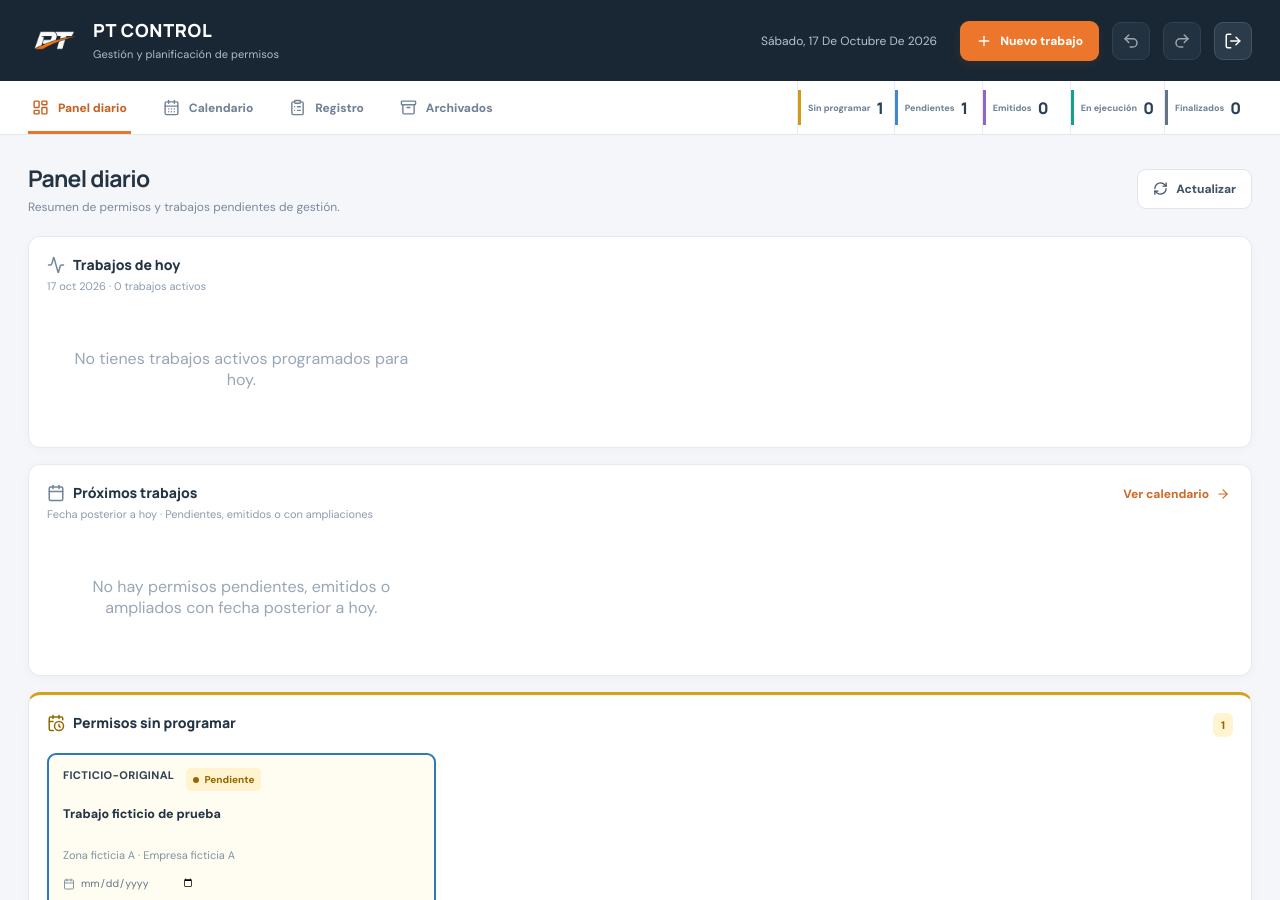
flujos completos con backend simulado solo en pruebas › finalizar desde la ficha también archiva
The width and height of the screenshot is (1280, 900).
Expected: the heading "Panel diario" is shown, x1=28 y1=162 x2=150 y2=194
Click the button with aria-label "Abrir Trabajo ficticio de prueba" at {"x": 119, "y": 775}, box x1=63 y1=768 x2=420 y2=864
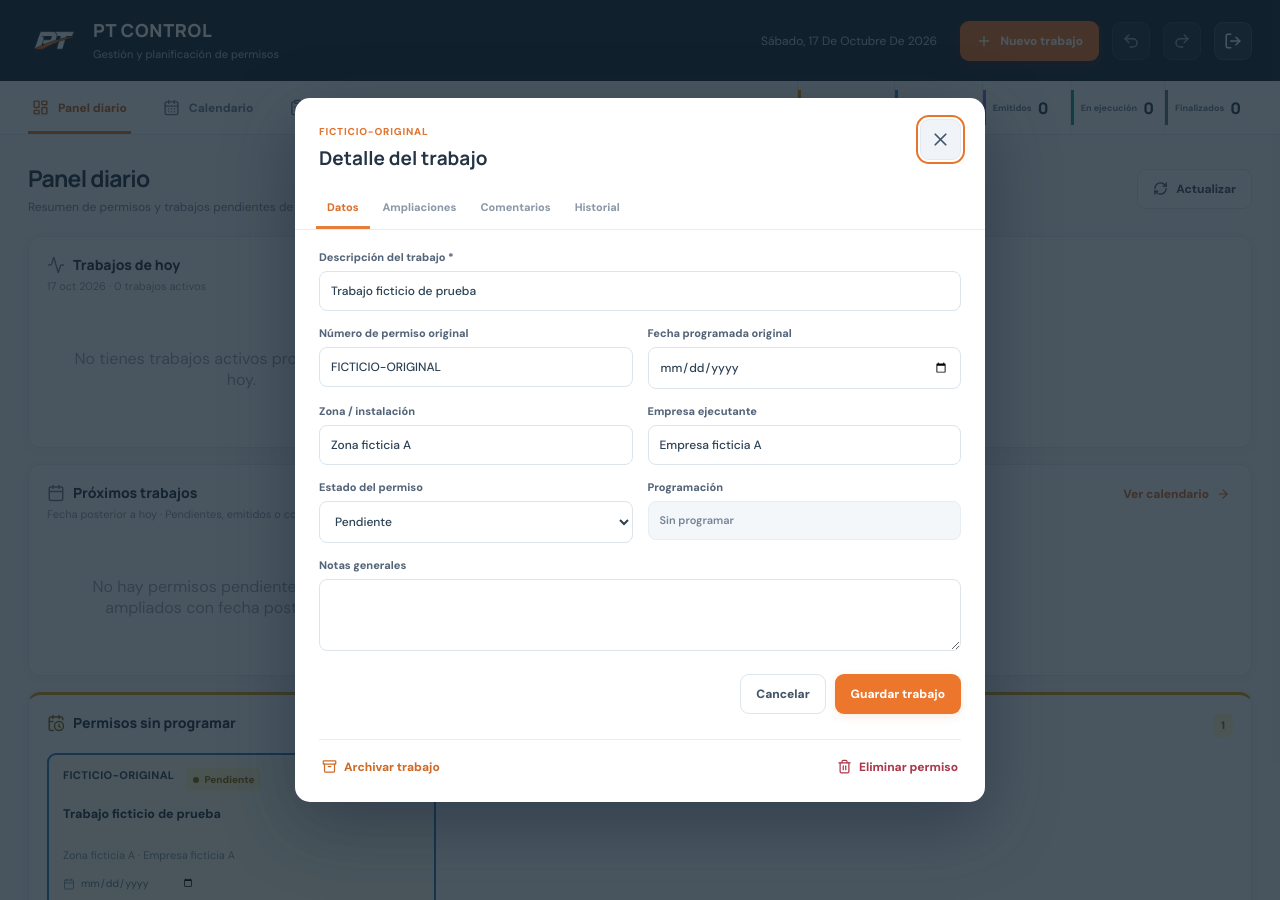
Select "Finalizado" in the dropdown labelled "Estado del permiso" at {"x": 476, "y": 522}, box x1=319 y1=501 x2=632 y2=543
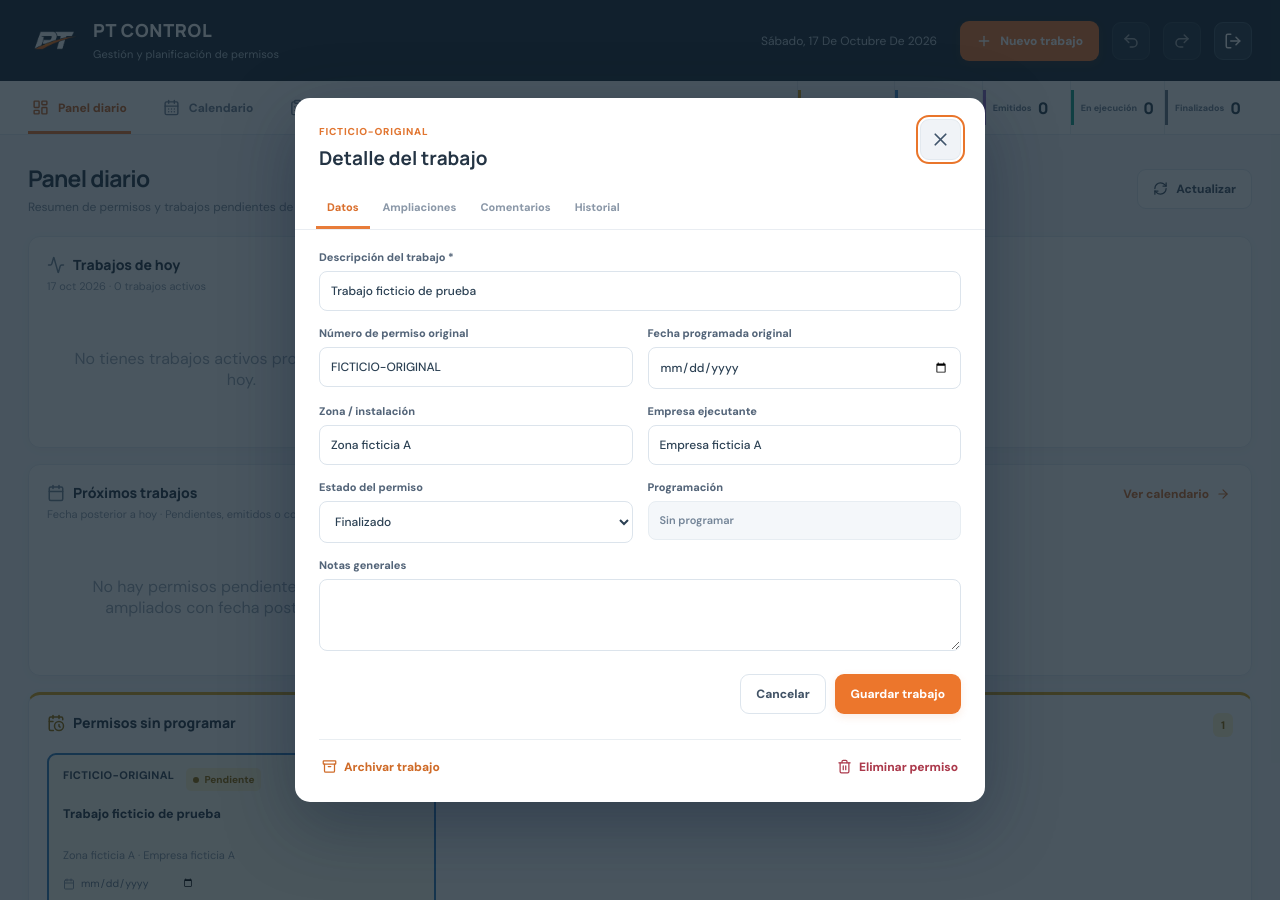
Submit the form named "Guardar trabajo", box x1=319 y1=250 x2=961 y2=778
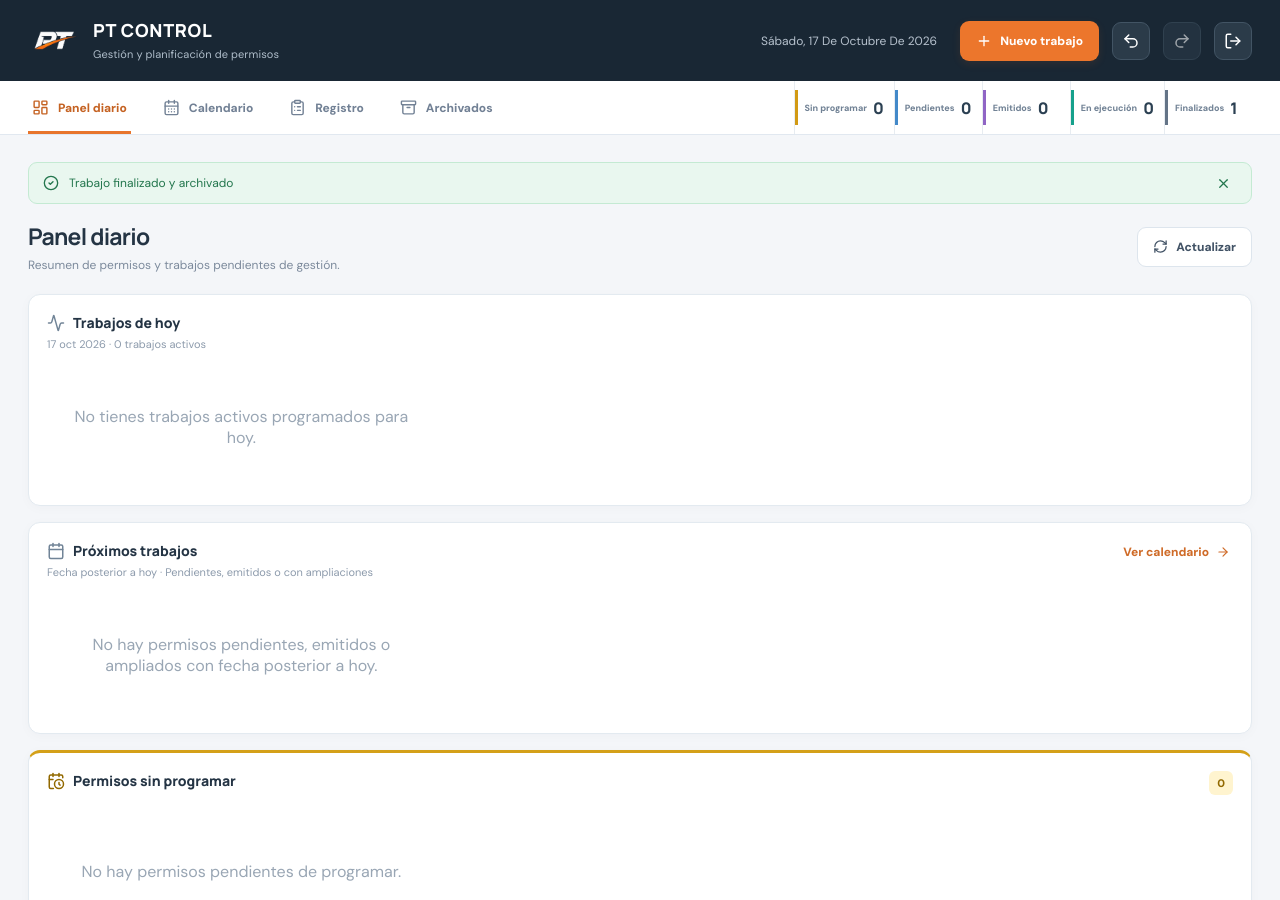
Result: the message "Trabajo finalizado y archivado" is shown at x1=28 y1=162 x2=1252 y2=204
